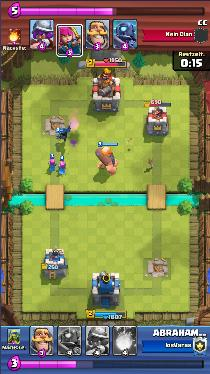ally_archer: (47, 158, 56, 173), (57, 161, 67, 174)
ally_giant: (94, 145, 118, 174)
ally_mini_pekka: (55, 126, 70, 141)
